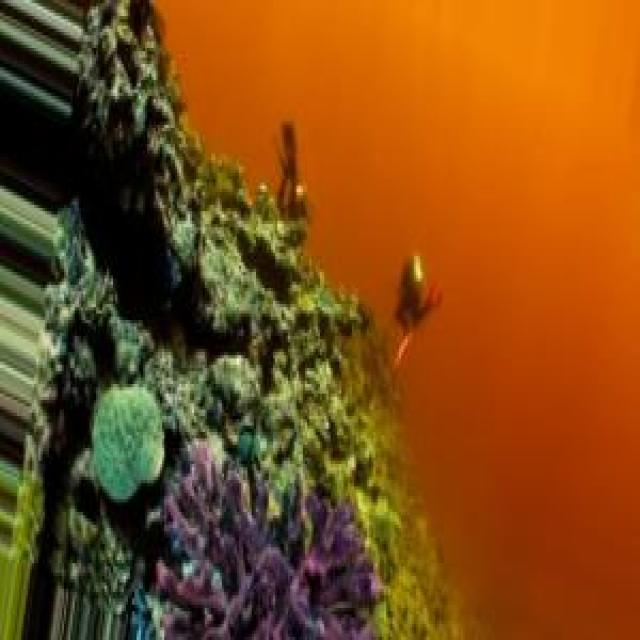Healthy: (5, 1, 466, 640), (159, 404, 381, 640), (93, 388, 167, 539)
